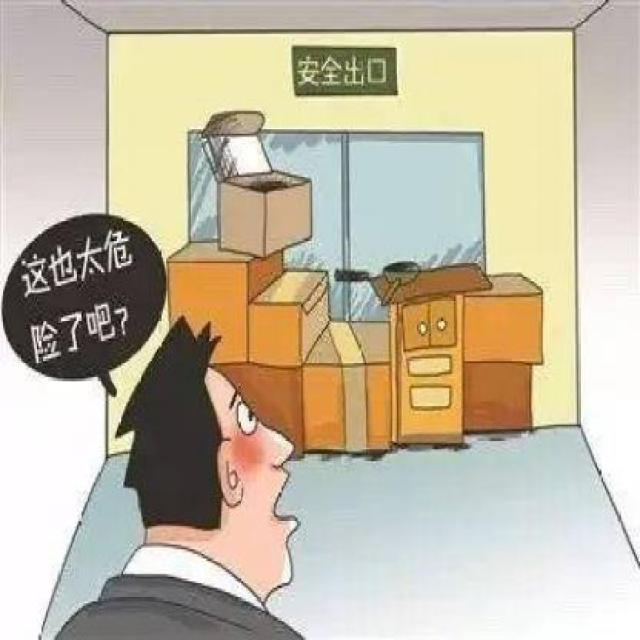exit_sign: (292, 42, 401, 102)
